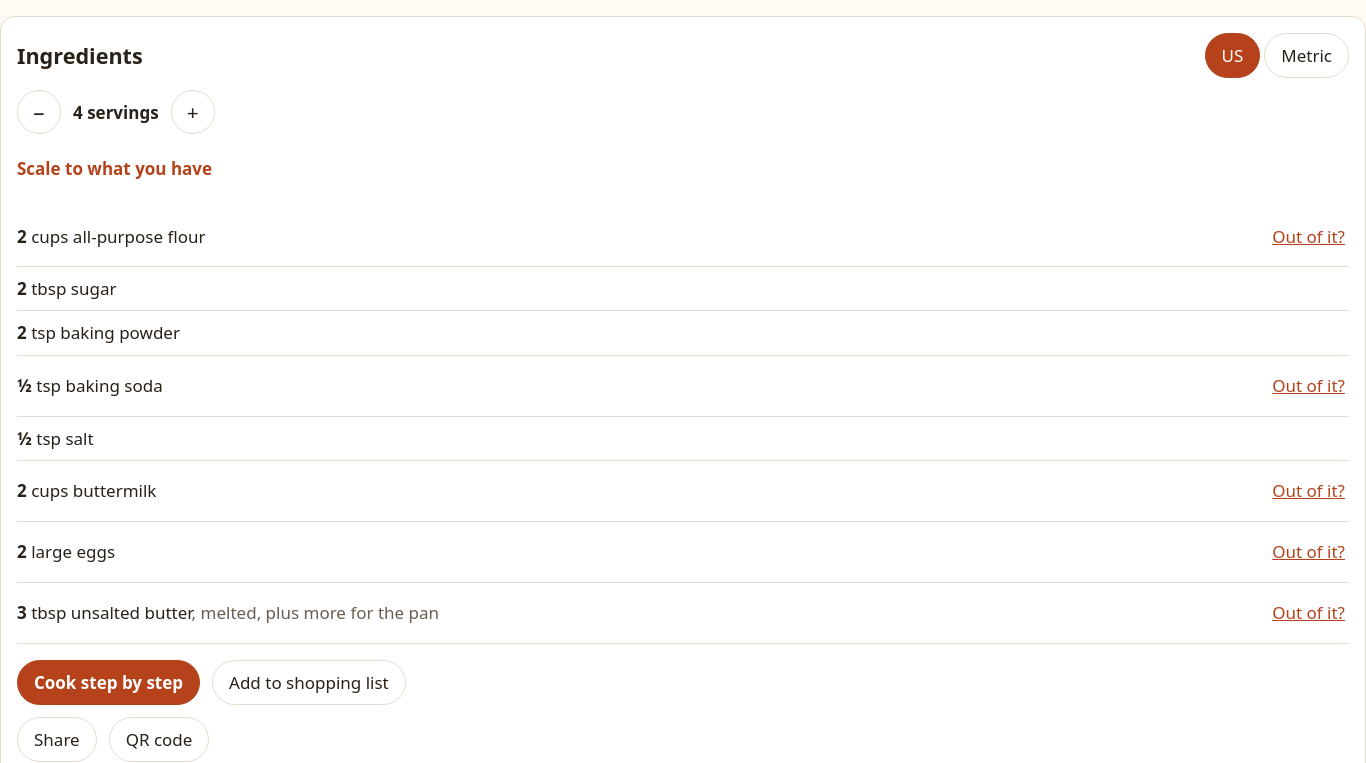
Test case: Scale to what you have › works with counted ingredients like eggs
This screenshot has width=1366, height=763.
Click the heading "Scale to what you have": (115, 168) [17,157,212,180]
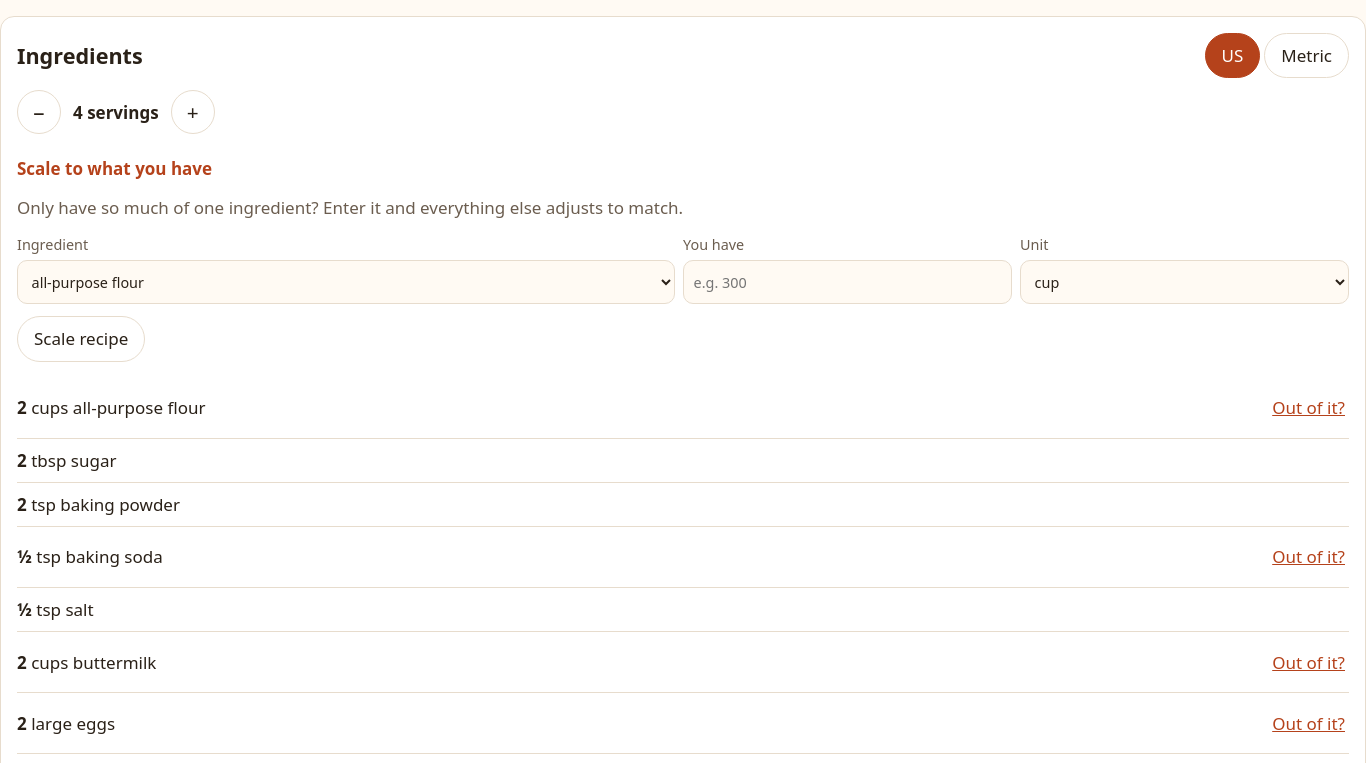
Select "large eggs" in the dropdown labelled "Ingredient": (346, 282) [17,260,675,304]
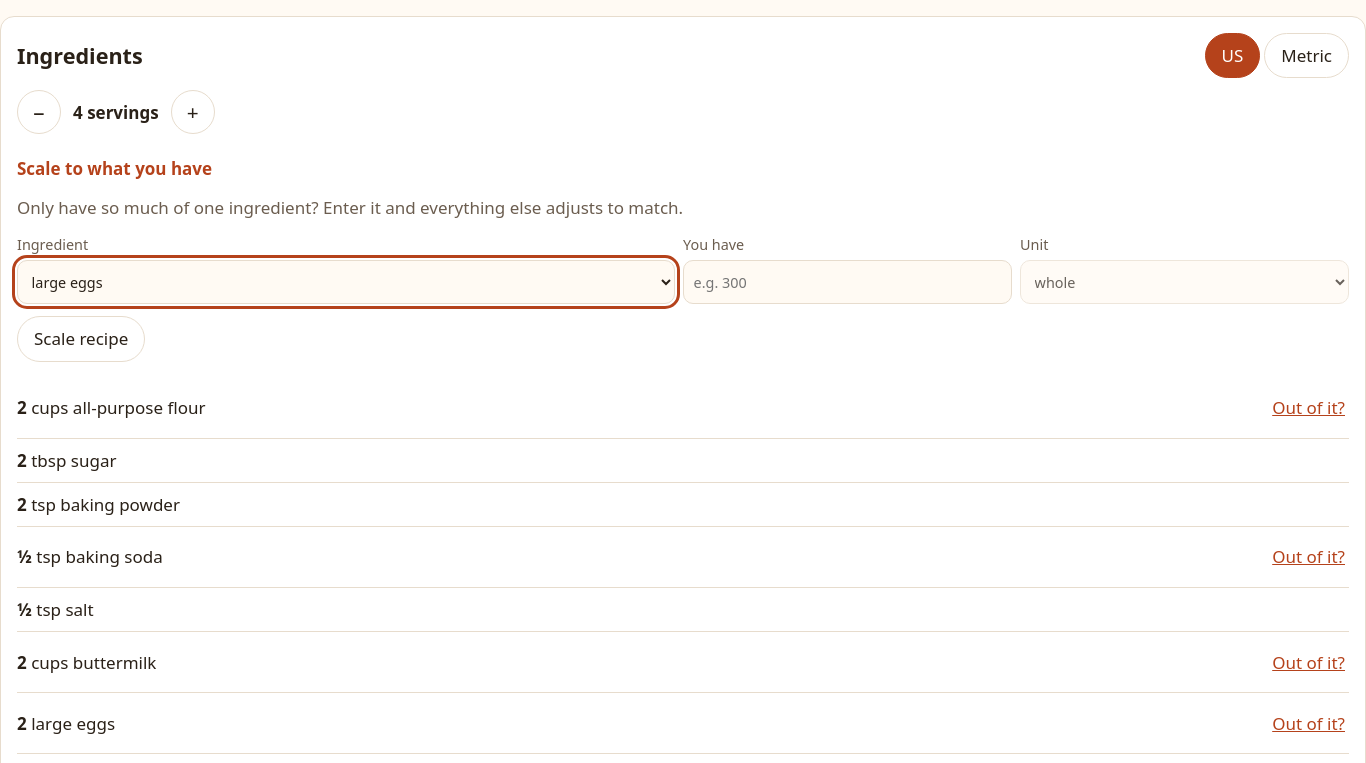
In the field labelled "You have": (848, 282) [683,260,1012,304], type "3"
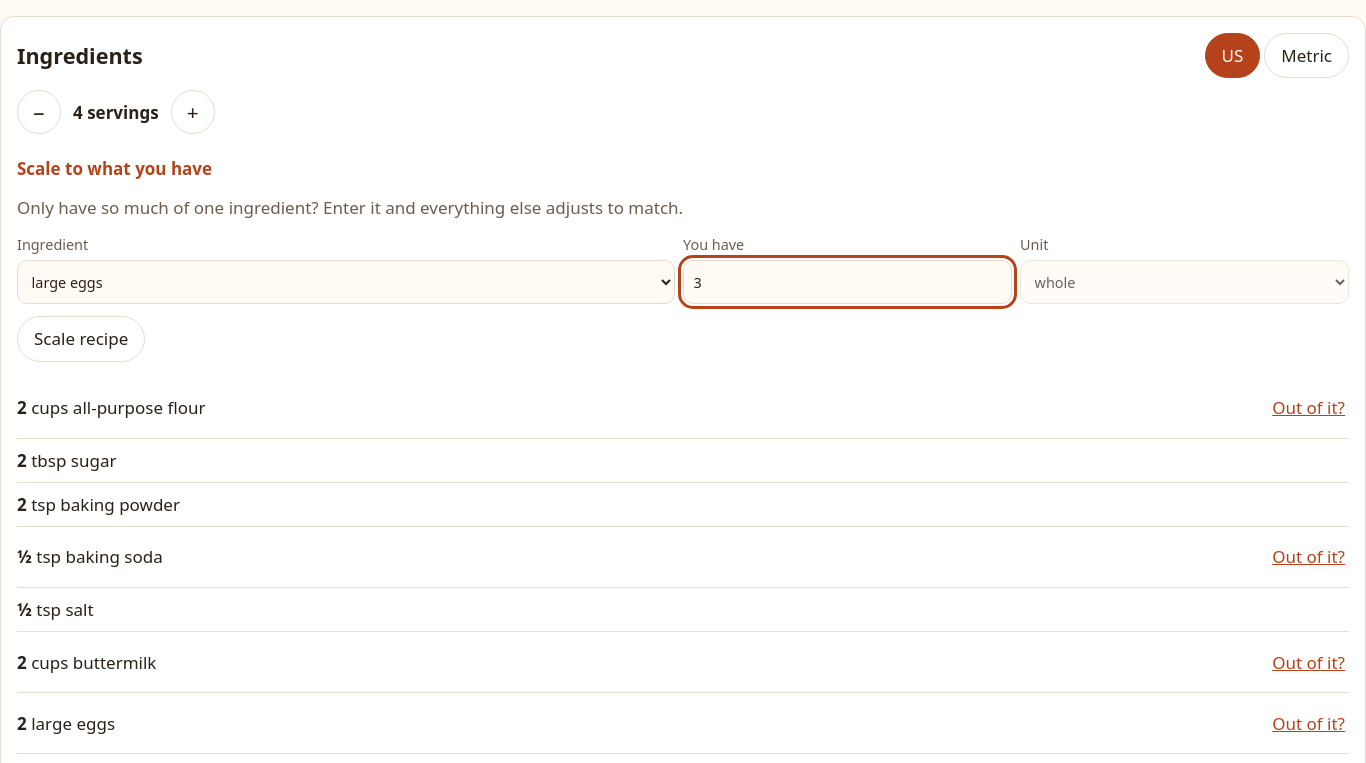
Click the button "Scale recipe": (81, 339) [17,316,145,362]
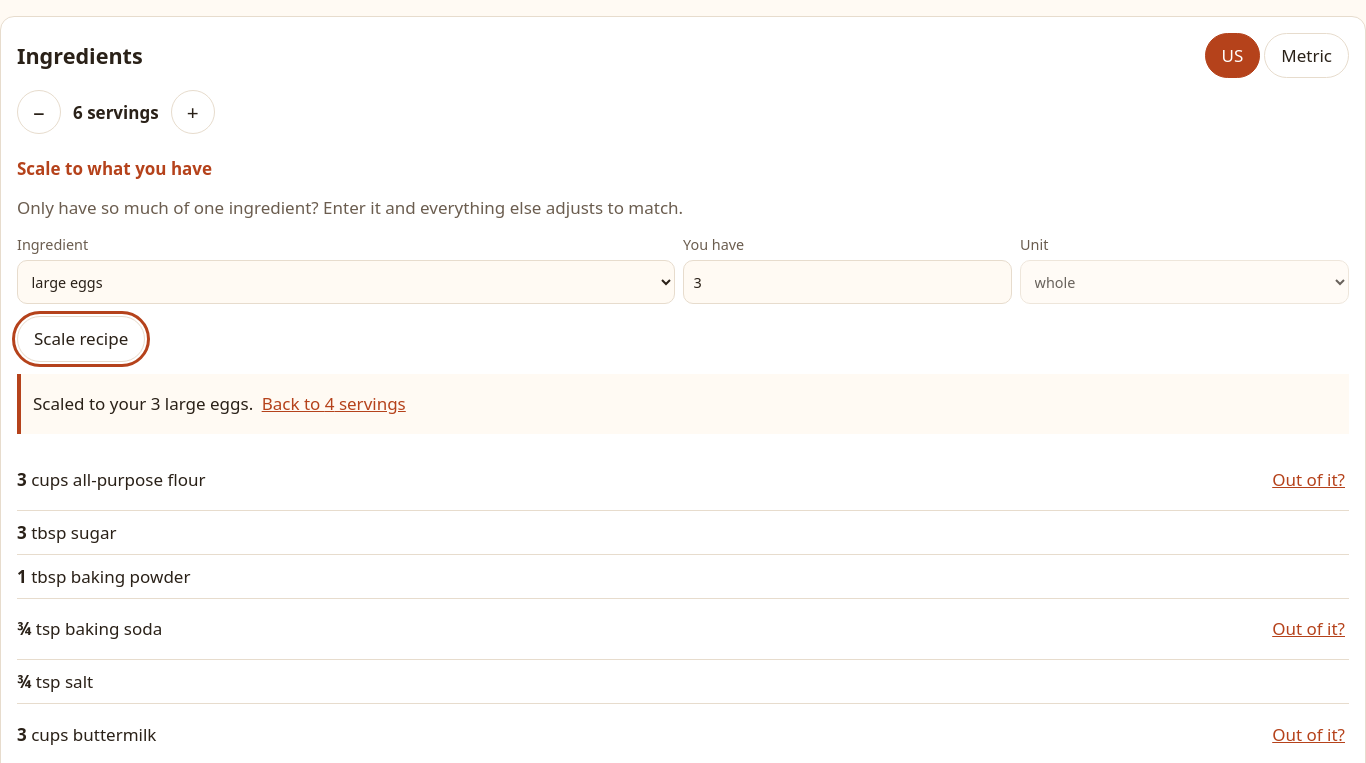
Expected: the dropdown labelled "Unit" is disabled, [1020,260,1349,304]
Expected: the text "6 servings" is shown, [73,99,159,126]
Expected: the list item "3 cups all-purpose flour Out of it?" is shown, [17,450,1349,511]
